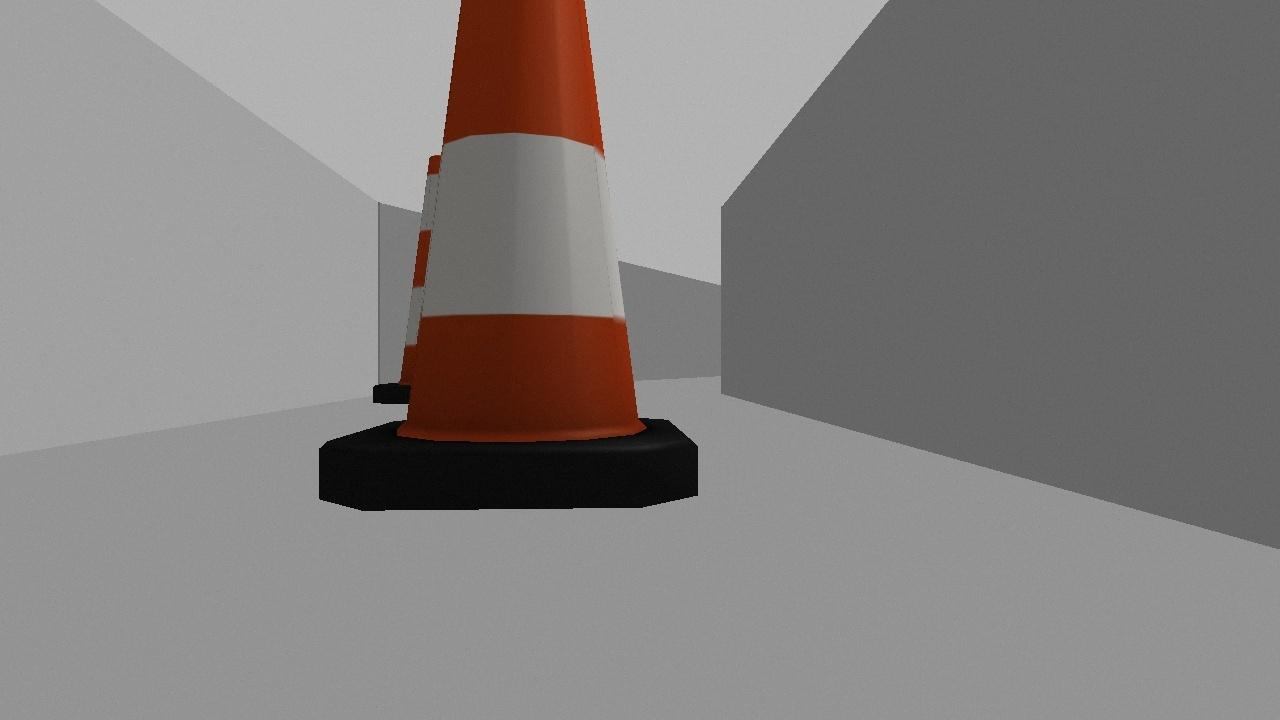cone_barrel: (275, 0, 715, 523), (367, 152, 483, 414)
